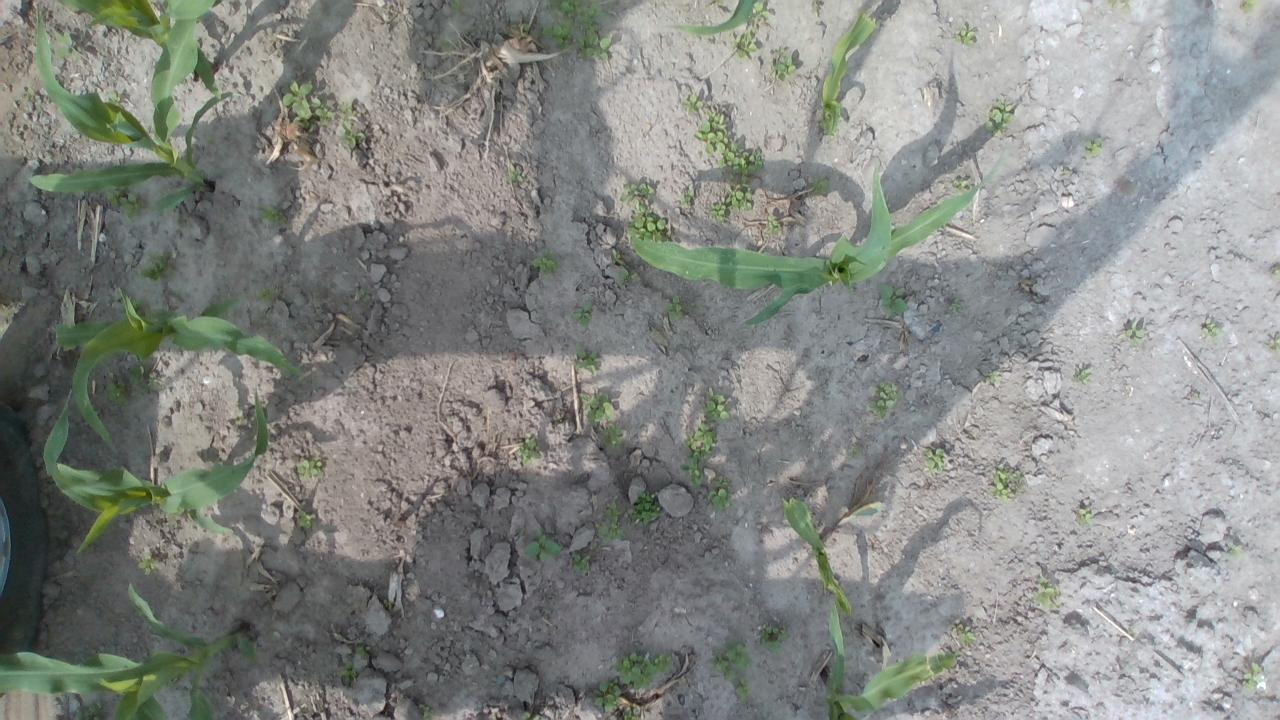Maize: (630, 147, 1010, 328), (29, 0, 236, 214), (48, 287, 304, 455), (42, 386, 269, 554), (0, 583, 258, 720), (52, 0, 224, 99), (818, 599, 958, 720), (778, 496, 878, 613), (819, 12, 873, 138), (668, 0, 828, 36)
Weeds: (540, 0, 612, 62), (282, 77, 334, 133), (613, 650, 673, 690), (679, 424, 717, 487), (627, 201, 672, 243), (708, 639, 752, 681), (105, 185, 148, 222), (718, 142, 762, 178), (694, 110, 730, 154), (988, 464, 1024, 502), (522, 529, 562, 563), (126, 354, 160, 394), (868, 380, 900, 422), (594, 502, 626, 543), (578, 390, 614, 426), (338, 101, 364, 147), (627, 491, 661, 526), (140, 251, 175, 282), (878, 284, 909, 318), (591, 678, 621, 712), (984, 100, 1012, 136), (770, 46, 796, 83), (1032, 576, 1061, 609), (701, 387, 730, 420), (759, 624, 790, 654), (102, 373, 130, 406), (708, 476, 734, 511), (722, 182, 754, 210), (728, 31, 758, 60), (52, 30, 80, 60), (532, 248, 562, 276), (297, 454, 324, 483), (572, 344, 598, 374), (661, 294, 686, 322), (518, 438, 542, 466), (620, 182, 655, 201), (258, 205, 288, 227), (601, 422, 624, 450), (1202, 318, 1226, 344), (570, 300, 592, 328), (1242, 662, 1262, 692), (614, 266, 640, 288), (338, 658, 358, 686), (748, 0, 771, 24), (952, 624, 977, 646), (924, 446, 945, 472), (732, 676, 752, 703), (78, 701, 105, 720), (682, 94, 703, 116), (256, 284, 279, 303), (572, 552, 590, 575), (1124, 326, 1144, 346), (296, 510, 316, 530), (956, 25, 974, 47), (139, 553, 157, 575), (811, 178, 830, 196), (1085, 138, 1102, 158), (1227, 541, 1245, 559), (709, 203, 726, 222), (619, 705, 640, 720), (1076, 507, 1094, 524), (508, 163, 524, 182), (1074, 367, 1090, 386), (353, 644, 372, 660), (766, 214, 781, 234), (1108, 0, 1129, 14), (420, 704, 436, 720), (952, 179, 969, 194), (106, 89, 120, 106), (610, 248, 624, 265), (1269, 333, 1280, 354), (509, 21, 532, 31), (438, 37, 454, 51), (359, 288, 372, 304), (948, 299, 962, 313), (450, 0, 464, 14), (984, 371, 998, 384), (1242, 0, 1258, 11), (681, 189, 692, 204), (522, 711, 540, 720), (848, 448, 864, 458), (178, 216, 189, 230), (168, 678, 180, 689), (1271, 266, 1280, 278), (1190, 392, 1200, 399), (1061, 170, 1070, 176)
